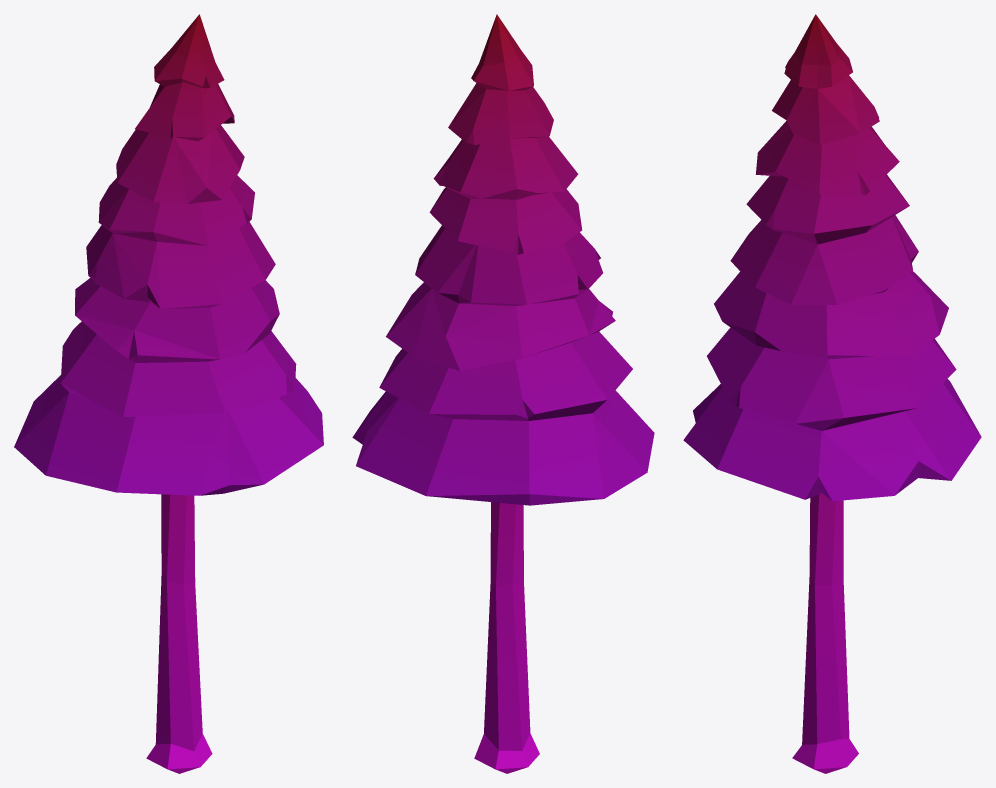
The model's file is SM_Tree_PolyPine_01.gltf.
3 renders of one model, left to right at view 1: azimuth 30°, elevation 25°; view 2: azimuth 150°, elevation 25°; view 3: azimuth 270°, elevation 25°, orthographic.
Visible parts, largest first — view 1: SM_Tree_PolyPine_01; view 2: SM_Tree_PolyPine_01; view 3: SM_Tree_PolyPine_01.
Boxes of the visible parts, box(x1,y1,x2,y2) form: SM_Tree_PolyPine_01: box(14, 14, 323, 773); SM_Tree_PolyPine_01: box(352, 14, 654, 773); SM_Tree_PolyPine_01: box(683, 14, 981, 773).
Size of the model in its own units: 2.51 by 6.69 by 2.36.
